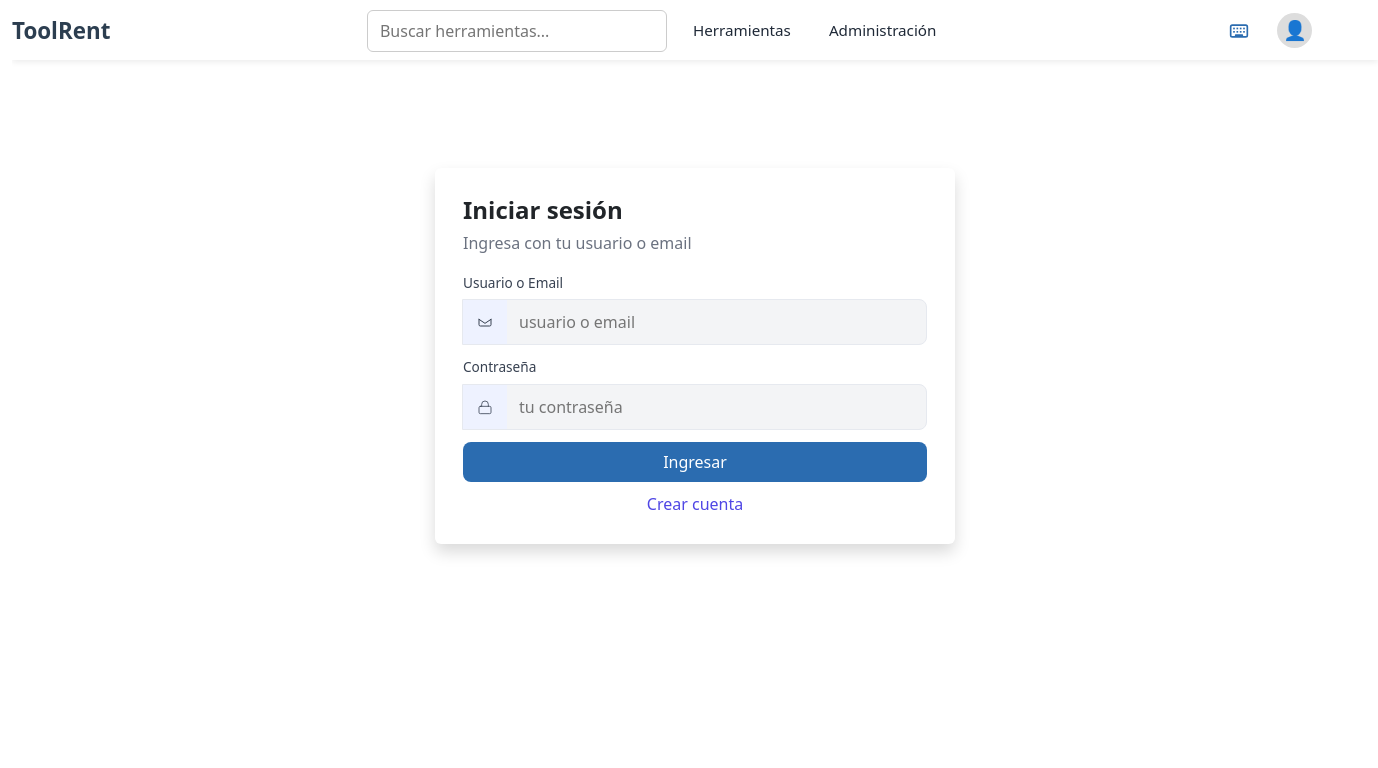
Test: Login › shows error message on 401
Type "user" into the field labelled "Usuario o Email" at (716, 322), box [507,300,926,344]
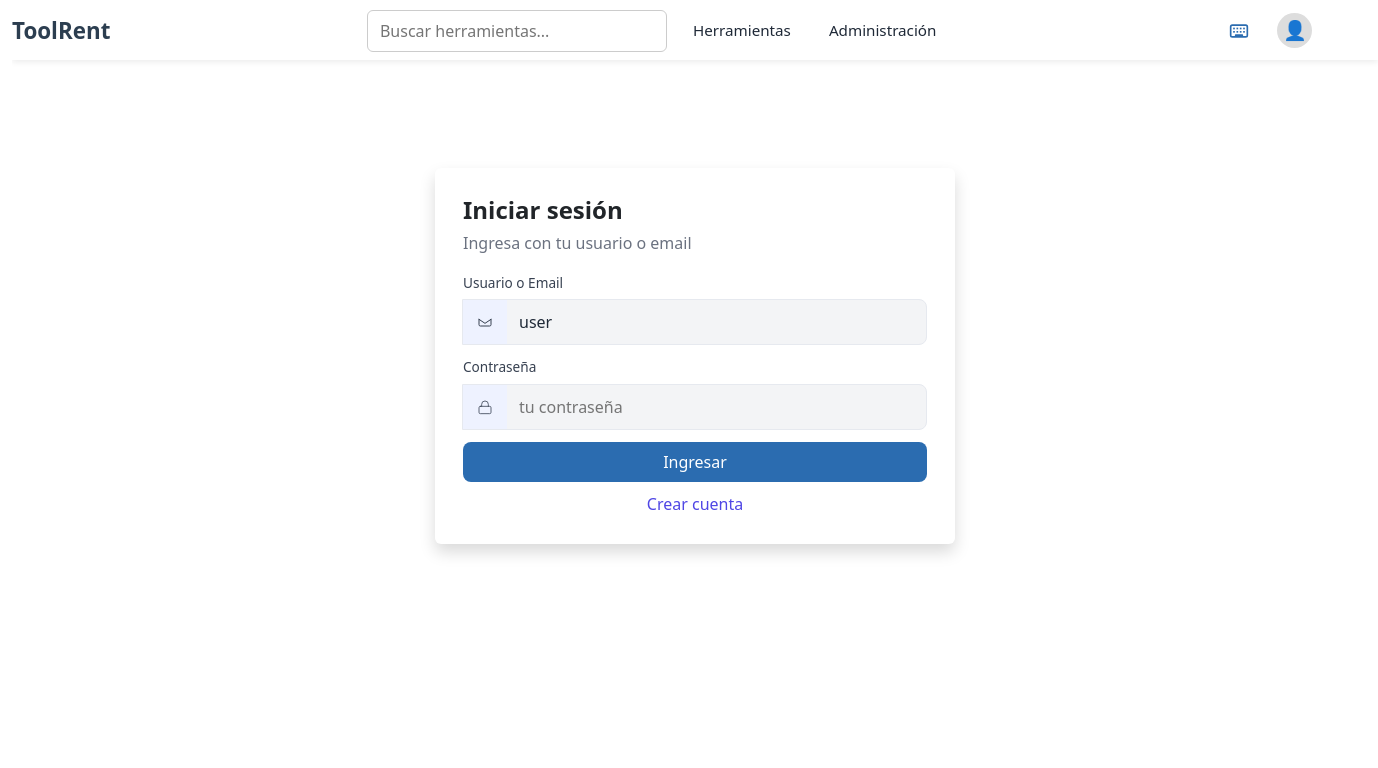
Type "wrong" into the password field labelled "Contraseña" at (716, 407), box [507,385,926,429]
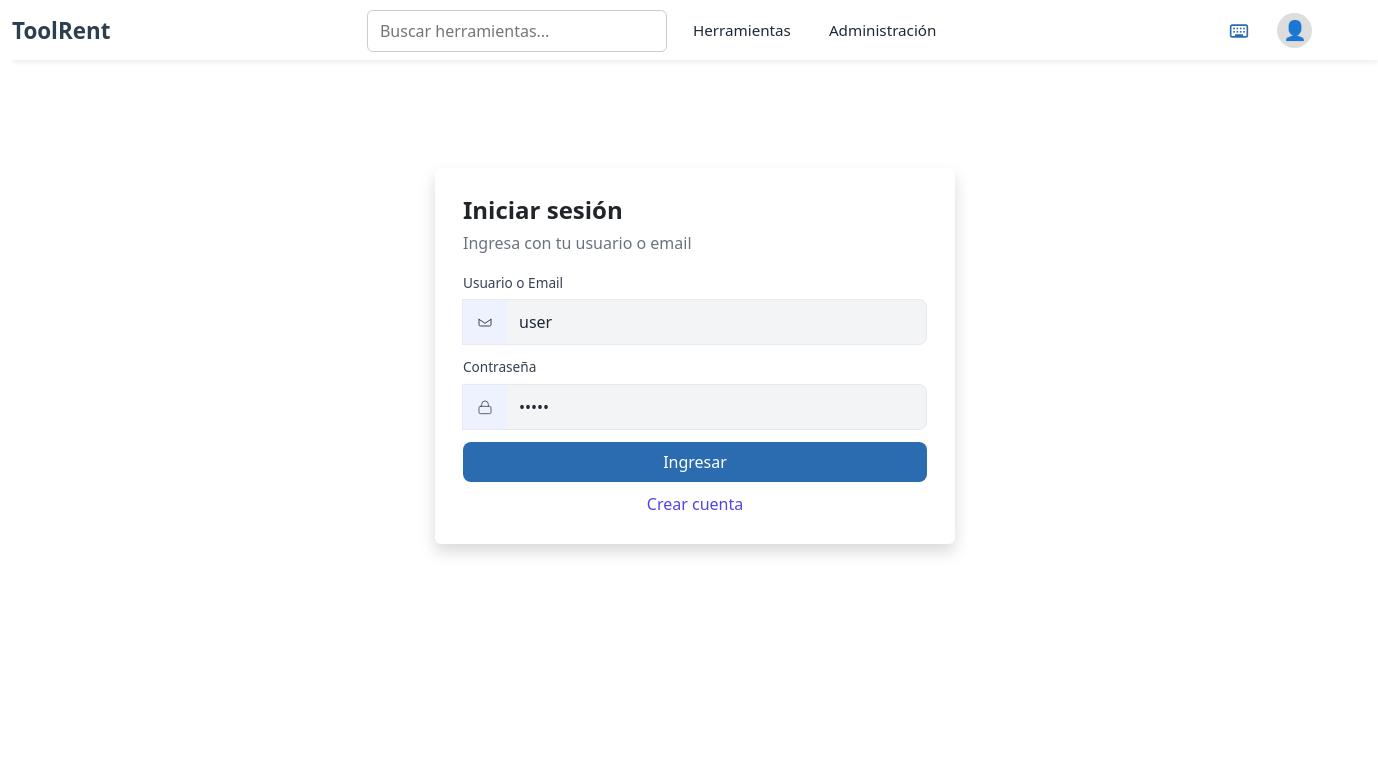
Click the button "Ingresar" at (695, 462), box [463,442,927,482]
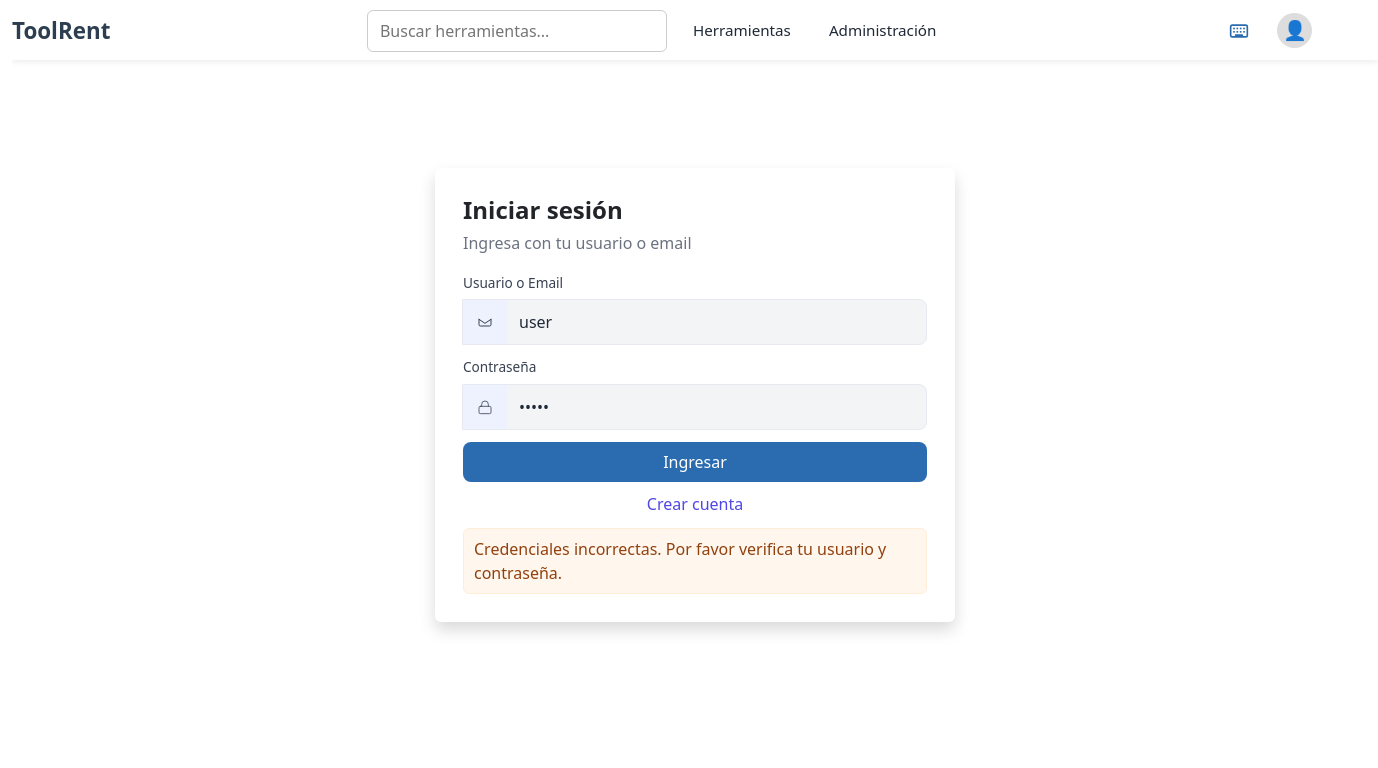
Expected: the text "Credenciales incorrectas" is shown, [474,538,890,584]
